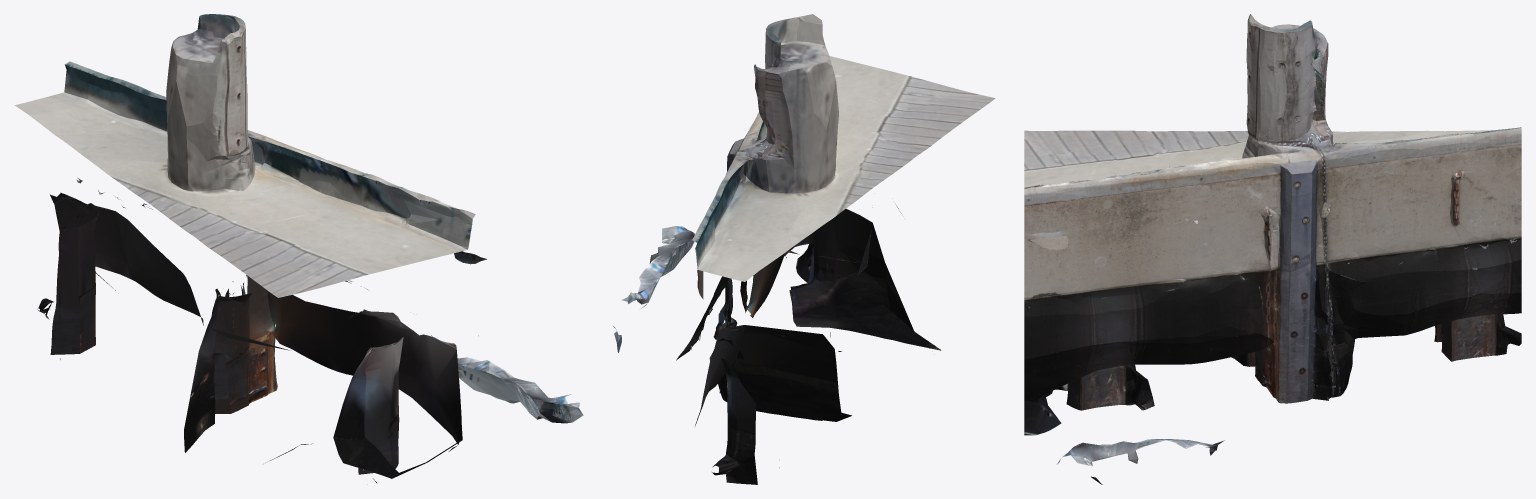
The picture shows the model from 3 angles, left to right: view 1: azimuth 30°, elevation 25°; view 2: azimuth 150°, elevation 25°; view 3: azimuth 270°, elevation 25°; orthographic projection. The views are drawn at different scales.
Bounding box in the file's own units: 2.95 × 3.34 × 4.18.
4 materials, 4 textured.
